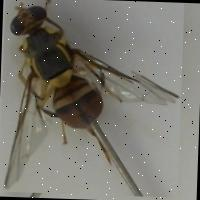Oriental-fruit-fly: (0, 0, 184, 197)
